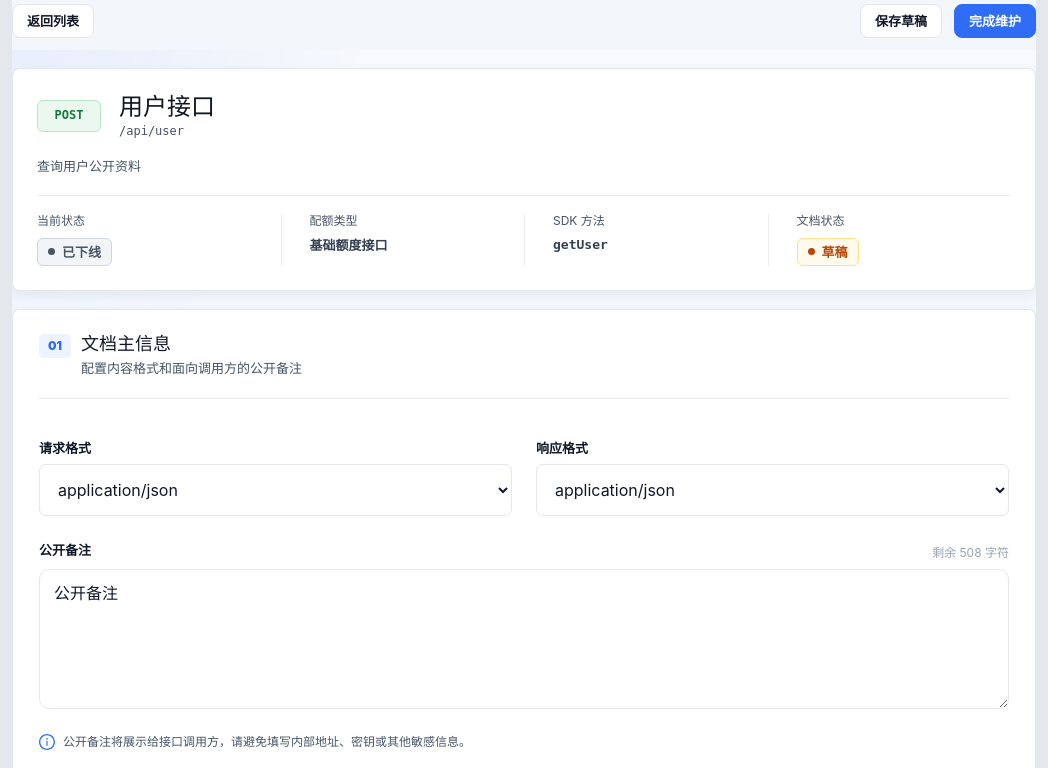
InterfaceDocMaintenanceView › 保存前拒绝大小写不同或首尾空白不同的重复错误码
The width and height of the screenshot is (1048, 768).
Click the button "完成维护". click: click(995, 21)
box: [954,4,1036,38]
(page scrolled)
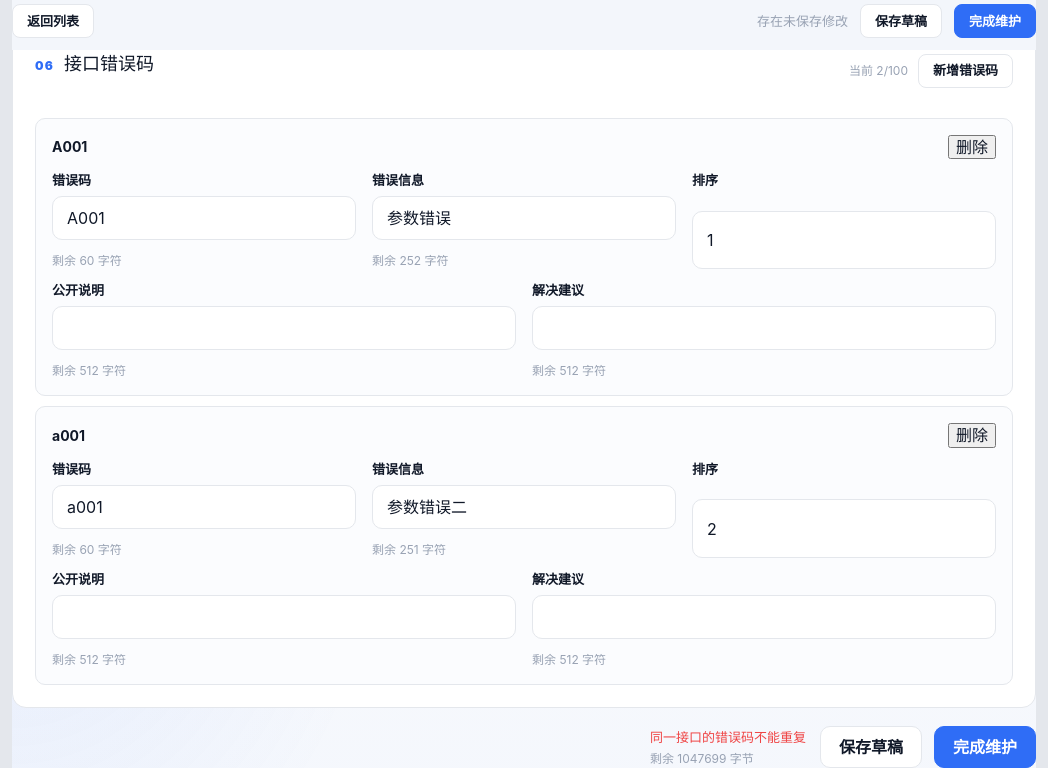
Expected: the 1st field labelled "错误码 剩余 60 字符" holds "A001", [52,196,356,240]
Now the text "同一接口的错误码不能重复" is shown, box [650,729,806,745]
